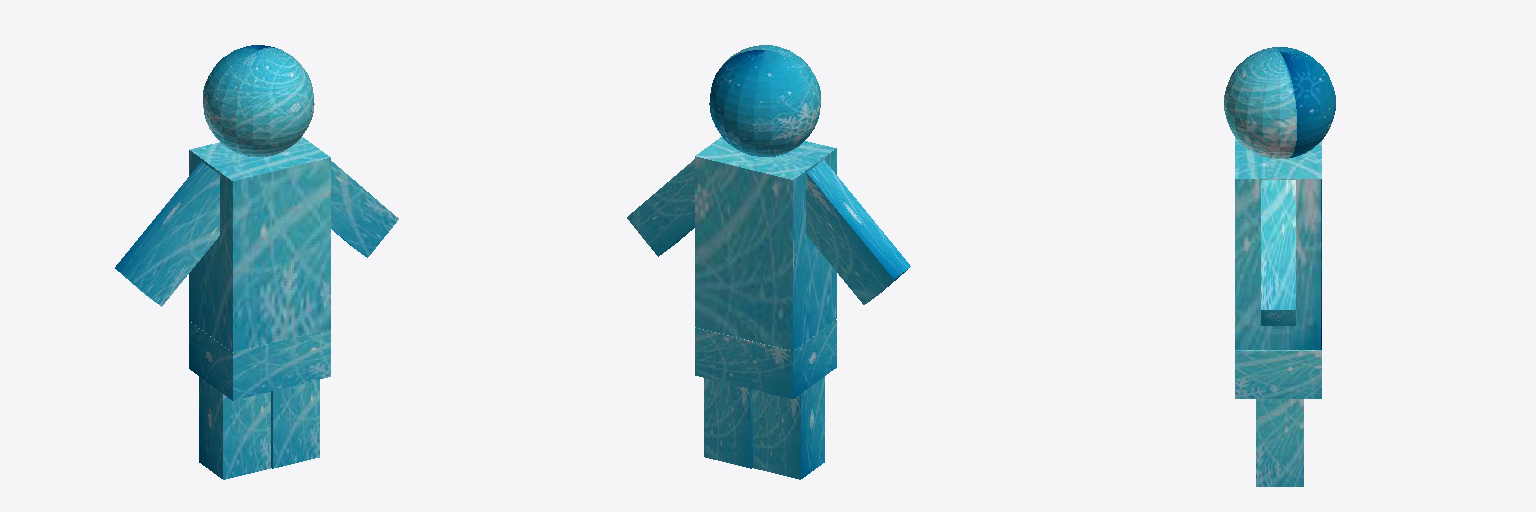
The picture shows the model from 3 angles: view 1: azimuth 30°, elevation 25°; view 2: azimuth 150°, elevation 25°; view 3: azimuth 270°, elevation 25°; orthographic projection.
Visible parts, largest first — view 1: pCube7; view 2: pCube7; view 3: pCube7.
Part boxes in pixels (x1,y1,x2,y2): pCube7: (115,45,398,479); pCube7: (627,45,910,479); pCube7: (1224,47,1335,486).
Size of the model in its own units: 5.3 by 7.77 by 1.93.
Materials: 1 (1 with a texture image).